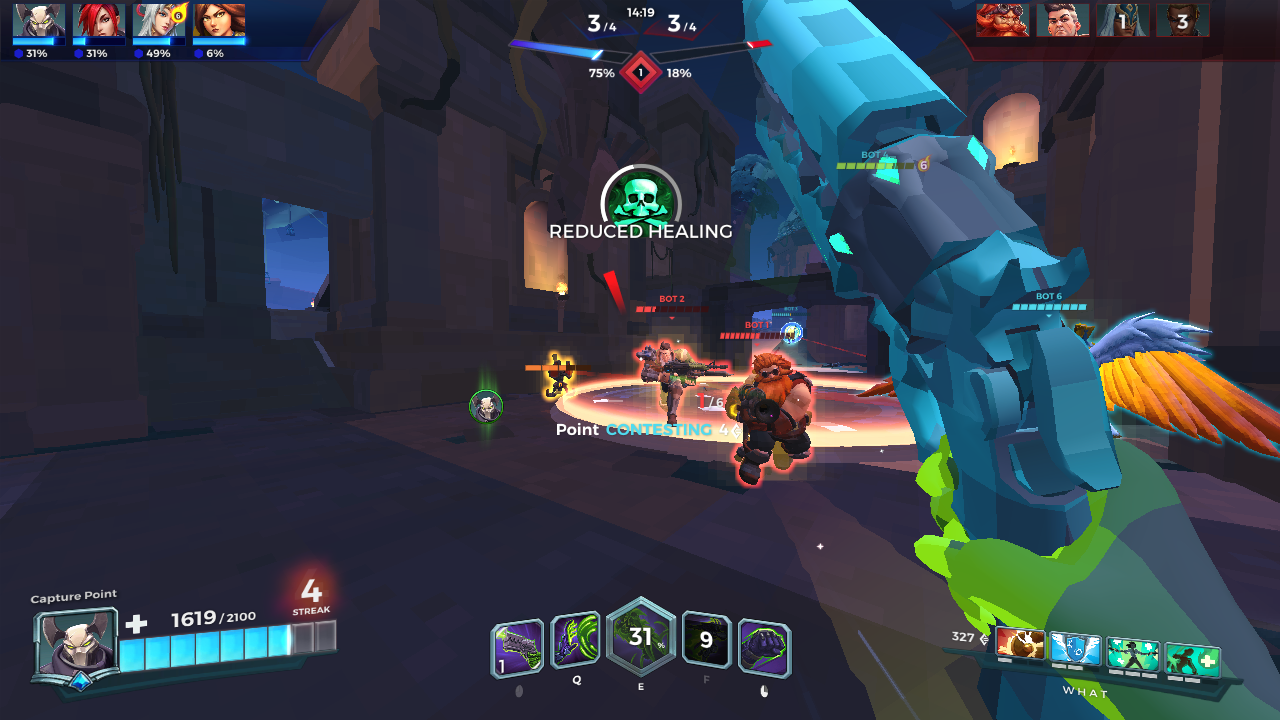model: (730, 349, 822, 497), (639, 324, 707, 419), (535, 348, 578, 406)
